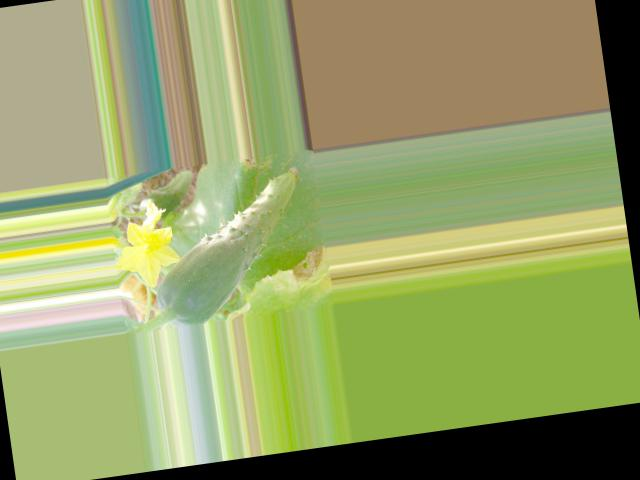cucumber: (141, 165, 317, 329)
